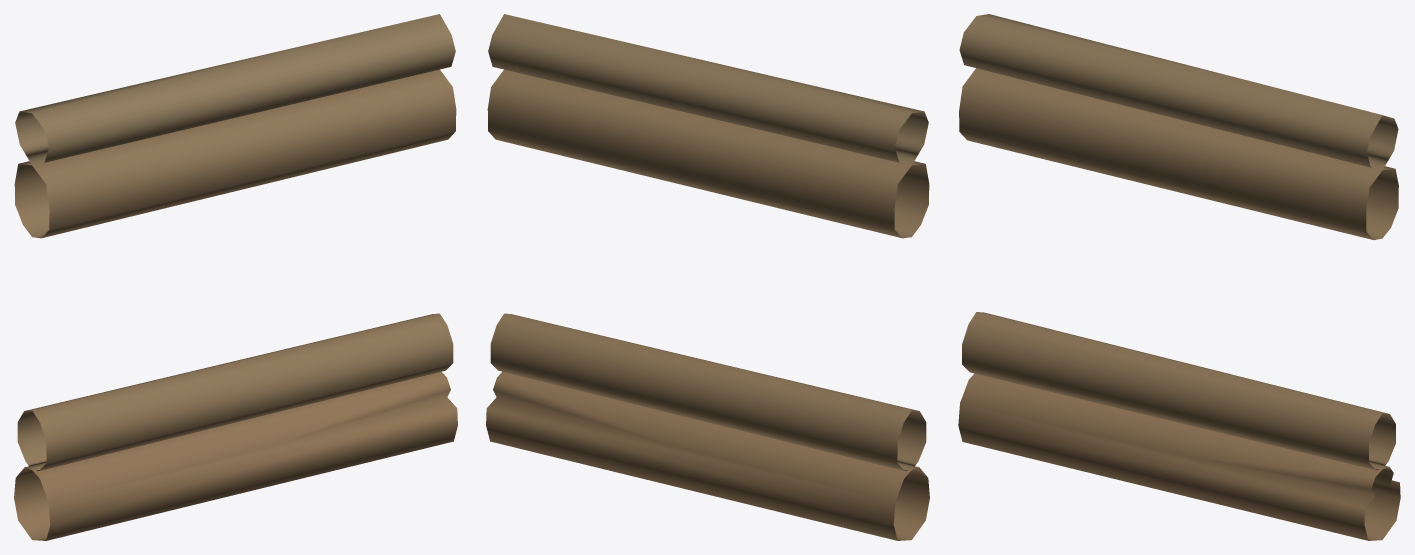
Rendered from rpgpp_ag_wall_01_3x3_window_b.fbx.
The picture shows the model from 3 angles, left to right: view 1: azimuth 30°, elevation 25°; view 2: azimuth 150°, elevation 25°; view 3: azimuth 330°, elevation 25°; orthographic projection.
Visible parts, largest first — view 1: rpgpp_ag_wall_01_3x3_window_b; view 2: rpgpp_ag_wall_01_3x3_window_b; view 3: rpgpp_ag_wall_01_3x3_window_b.
Part boxes in pixels (bbox=[...]): rpgpp_ag_wall_01_3x3_window_b: bbox=[14, 14, 457, 540]; rpgpp_ag_wall_01_3x3_window_b: bbox=[486, 14, 929, 540]; rpgpp_ag_wall_01_3x3_window_b: bbox=[958, 14, 1400, 540].
Bounding box in the file's own units: 3 × 3 × 0.4626.
